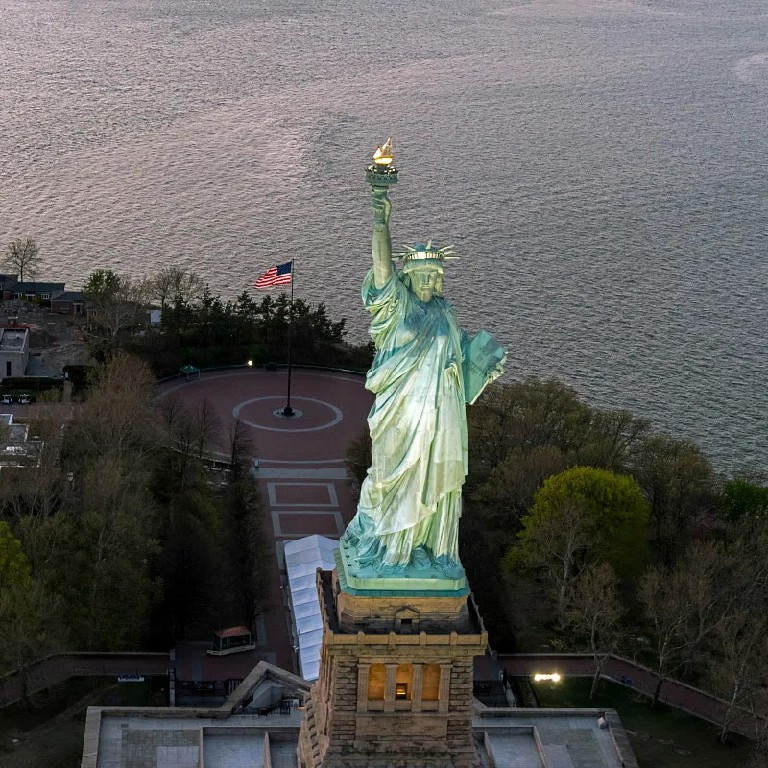SL: (296, 139, 508, 768)
